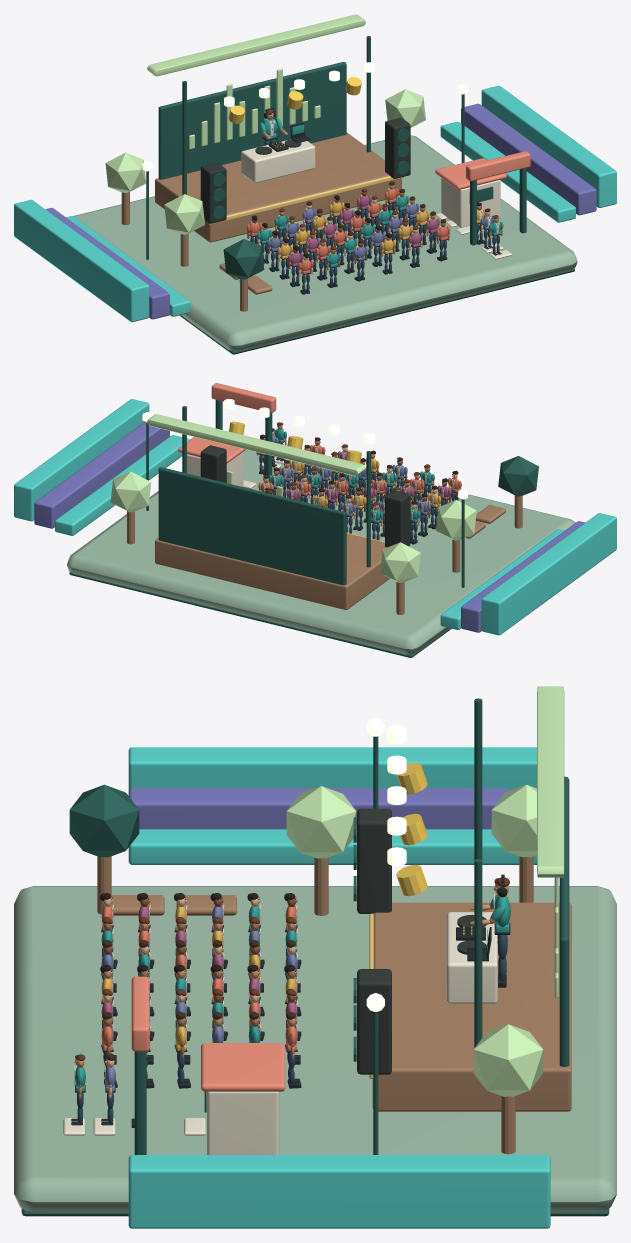
The model's file is concert.glb.
The picture shows the model from 3 angles, top to bottom: view 1: azimuth 30°, elevation 25°; view 2: azimuth 150°, elevation 25°; view 3: azimuth 270°, elevation 25°; orthographic projection. The views are drawn at different scales.
Visible parts, largest first — view 1: Island, Stage backdrop, Stage, Expansion_-1_2, Expansion_1_2, Expansion_1_1, Stage canopy, Expansion_1_0, Stage DJ desk, Entrance ticket booth, Expansion_-1_1, Tree crown.003 (+13 smaller); view 2: Island, Stage backdrop, Stage, Expansion_-1_2, Expansion_1_2, Expansion_1_1, Stage canopy, Expansion_1_0, Expansion_-1_1, Stage speaker, Tree crown, Tree crown.002 (+9 smaller); view 3: Island, Expansion_1_2, Stage, Expansion_-1_2, Expansion_-1_1, Expansion_-1_0, Stage canopy, Entrance ticket booth, Entrance booth roof, Tree crown.002, Tree crown.001, Tree crown.003 (+16 smaller).
Boxes of the visible parts, x1=… form: Island: x1=74, y1=135, x2=577, y2=351; Stage backdrop: x1=158, y1=62, x2=346, y2=179; Stage: x1=155, y1=132, x2=401, y2=242; Expansion_-1_2: x1=14, y1=199, x2=149, y2=322; Expansion_1_2: x1=481, y1=85, x2=616, y2=207; Expansion_1_1: x1=461, y1=103, x2=596, y2=215; Stage canopy: x1=147, y1=14, x2=365, y2=76; Expansion_1_0: x1=440, y1=121, x2=575, y2=222; Stage DJ desk: x1=241, y1=139, x2=315, y2=182; Entrance ticket booth: x1=441, y1=178, x2=500, y2=227; Expansion_-1_1: x1=45, y1=207, x2=169, y2=319; Tree crown.003: x1=164, y1=194, x2=204, y2=234; Island: x1=67, y1=449, x2=575, y2=654; Stage backdrop: x1=158, y1=467, x2=346, y2=585; Stage: x1=155, y1=533, x2=389, y2=609; Expansion_-1_2: x1=481, y1=513, x2=616, y2=635; Expansion_1_2: x1=14, y1=399, x2=149, y2=521; Expansion_1_1: x1=34, y1=421, x2=169, y2=528; Stage canopy: x1=147, y1=414, x2=365, y2=476; Expansion_1_0: x1=55, y1=435, x2=189, y2=535; Expansion_-1_1: x1=461, y1=521, x2=585, y2=632; Stage speaker: x1=385, y1=490, x2=410, y2=547; Tree crown: x1=380, y1=542, x2=420, y2=582; Tree crown.002: x1=110, y1=471, x2=151, y2=512; Island: x1=14, y1=886, x2=616, y2=1212; Expansion_1_2: x1=128, y1=1155, x2=550, y2=1228; Stage: x1=372, y1=902, x2=571, y2=1111; Expansion_-1_2: x1=128, y1=747, x2=536, y2=790; Expansion_-1_1: x1=128, y1=788, x2=515, y2=829; Expansion_-1_0: x1=128, y1=829, x2=536, y2=864; Stage canopy: x1=537, y1=686, x2=564, y2=877; Entrance ticket booth: x1=207, y1=1091, x2=279, y2=1154; Entrance booth roof: x1=201, y1=1043, x2=285, y2=1091; Tree crown.002: x1=473, y1=1024, x2=543, y2=1096; Tree crown.001: x1=69, y1=784, x2=139, y2=857; Tree crown.003: x1=286, y1=786, x2=356, y2=858.
Bounding box in the file's own units: 16.65 × 5.35 × 10.
